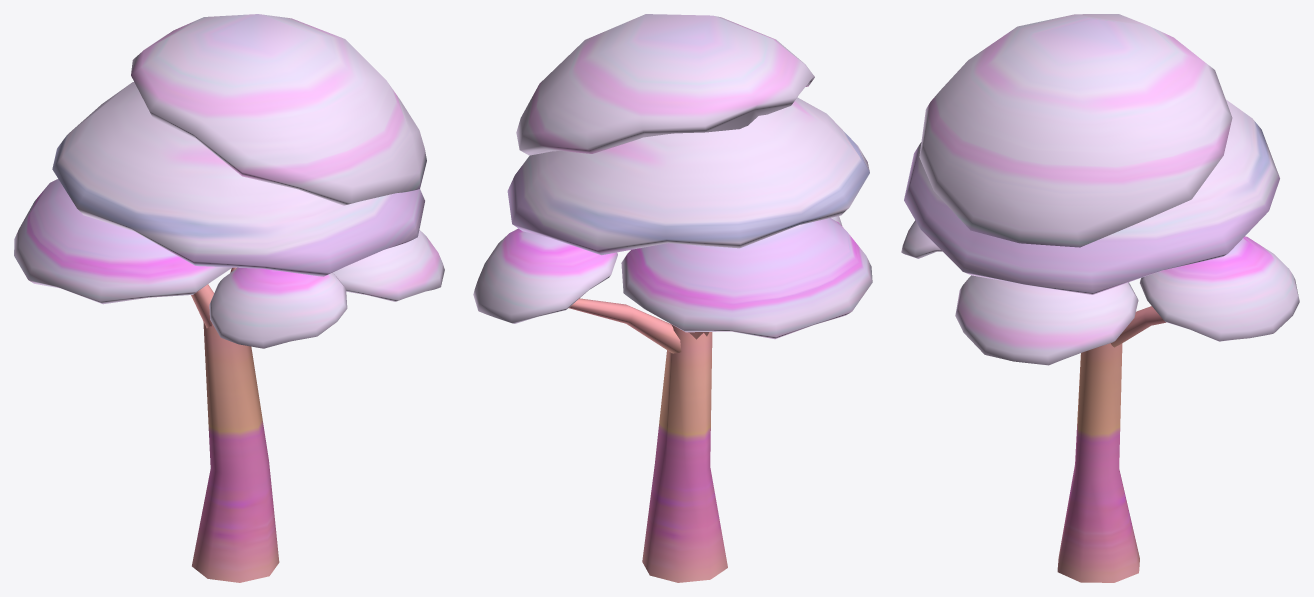
The model's file is grande_seta09.fbx.
3 views of the same model, side by side, from view 1: azimuth 30°, elevation 25°; view 2: azimuth 150°, elevation 25°; view 3: azimuth 270°, elevation 25° (orthographic).
Parts seen in each view (by area): view 1: SetaXL_09; view 2: SetaXL_09; view 3: SetaXL_09.
Boxes of the visible parts, left/top/right/bottom form: SetaXL_09: left=14, top=14, right=444, bottom=582; SetaXL_09: left=473, top=14, right=872, bottom=582; SetaXL_09: left=901, top=14, right=1299, bottom=582.
Size of the model in its own units: 6358 by 9073 by 6096.
1 material, 1 textured.
